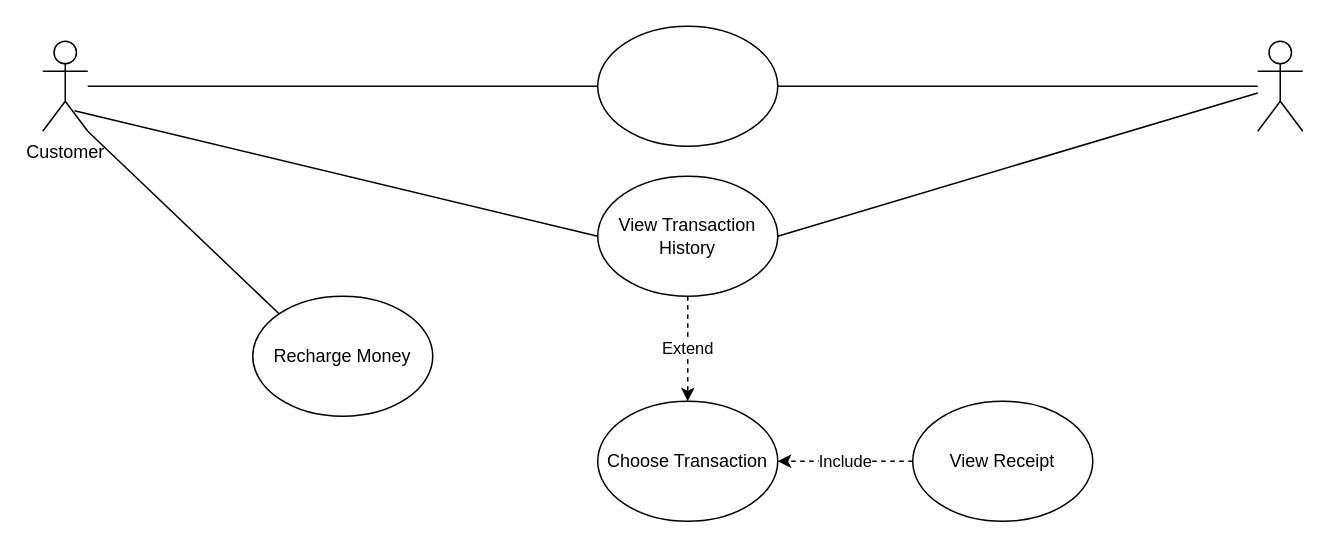
Some shapes in this 1331 by 548 pixel diagram are drawn without their labels. Each missing label, with the centre of its shape:
Admin: [1279,85]
View Profile: [687,85]
